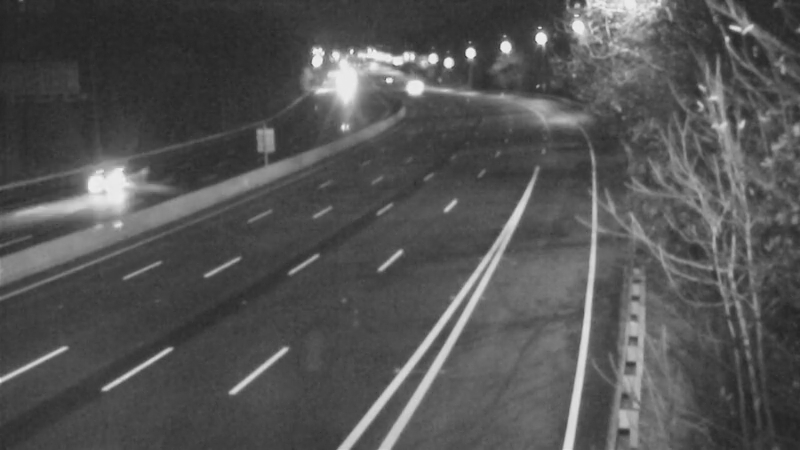vehicle: (68, 140, 148, 220), (384, 61, 434, 111), (321, 61, 371, 111)
